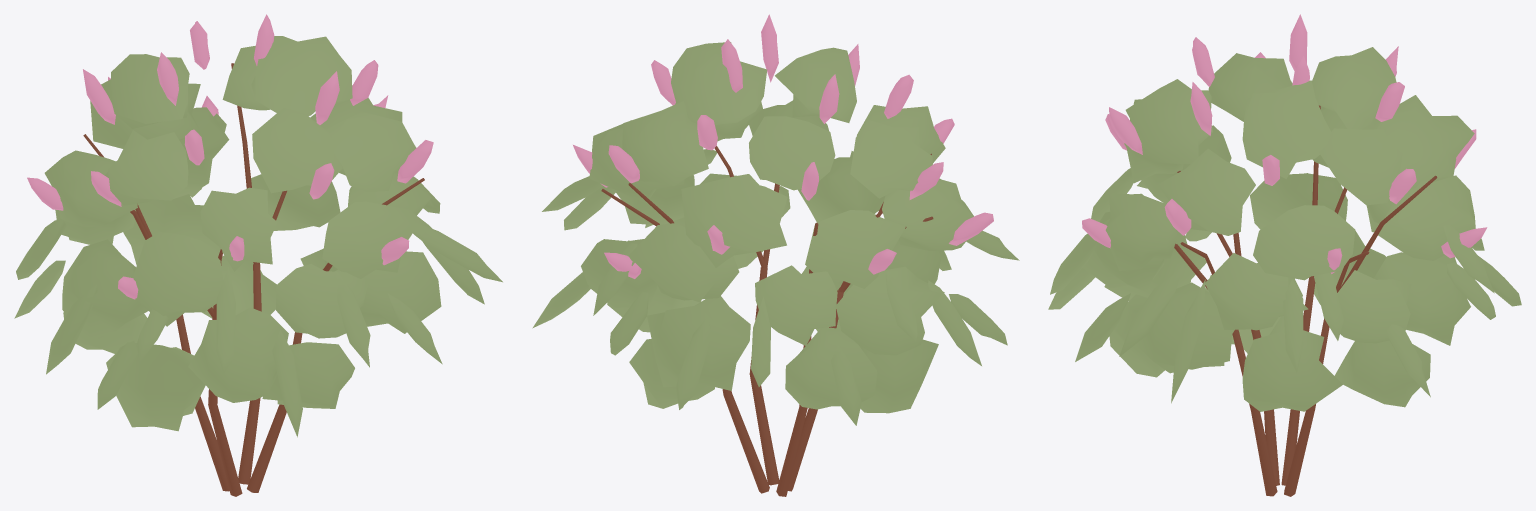
Rendered from Blender_Tamarisk_1.glb.
3 views of the same model, side by side, from view 1: azimuth 30°, elevation 25°; view 2: azimuth 150°, elevation 25°; view 3: azimuth 270°, elevation 25° (orthographic).
Visible parts, largest first — view 1: Blender_Tamarisk_1; view 2: Blender_Tamarisk_1; view 3: Blender_Tamarisk_1.
Part boxes in pixels (left/top/right/bottom): Blender_Tamarisk_1: left=14, top=14, right=502, bottom=496; Blender_Tamarisk_1: left=532, top=14, right=1019, bottom=496; Blender_Tamarisk_1: left=1048, top=14, right=1521, bottom=496.
Bounding box in the file's own units: 5.9 × 6.28 × 5.95.
